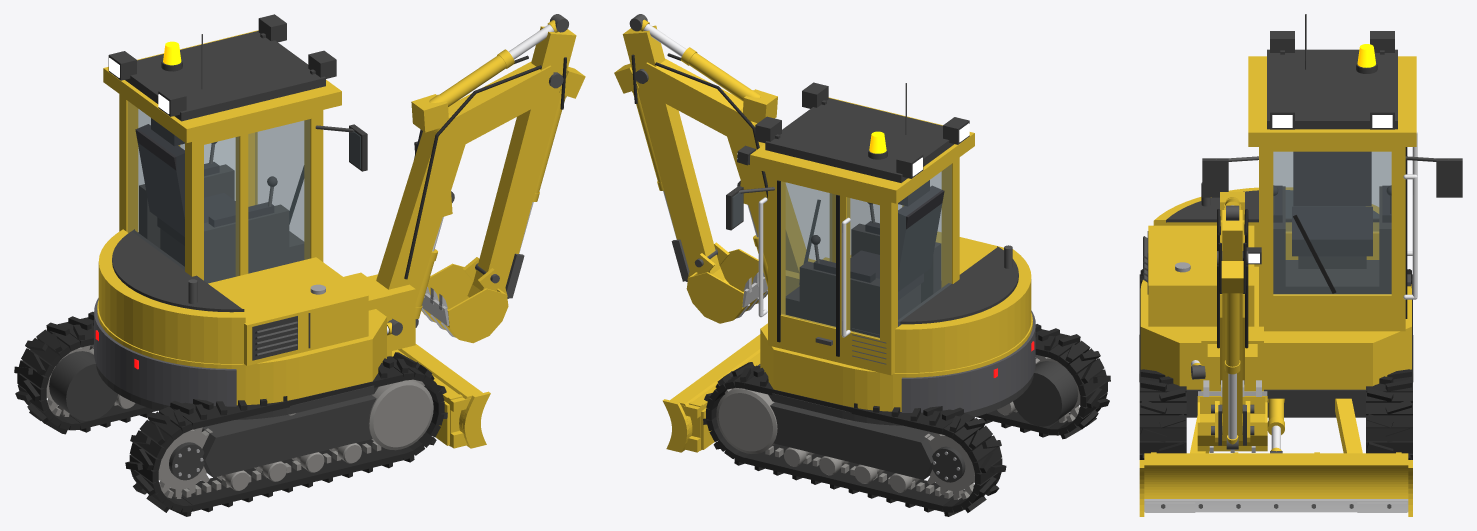
The model's file is mini_excavator.glb.
The picture shows the model from 3 angles, left to right: view 1: azimuth 30°, elevation 25°; view 2: azimuth 150°, elevation 25°; view 3: azimuth 270°, elevation 25°; orthographic projection. The views are drawn at different scales.
Parts seen in each view (by area): view 1: cab, upper_rotate, boom_tilt, track_right, arm_tilt, undercarriage_right, track_left, bucket_tilt, blade_tilt, idler_right_spin, undercarriage_left, sprocket_right_spin (+3 smaller); view 2: cab, upper_rotate, track_left, boom_tilt, arm_tilt, undercarriage_left, track_right, bucket_tilt, blade_tilt, idler_left_spin, undercarriage_right, sprocket_left_spin (+2 smaller); view 3: cab, upper_rotate, blade_tilt, track_right, track_left, arm_tilt, bucket_tilt, boom_tilt, undercarriage, bucket_cylinder_rotate, swing_post_rotate, bucket_cylinder_rod_slide (+1 smaller).
Part boxes in pixels (<box>): cab: <box>103,14,367,283</box>; upper_rotate: <box>94,229,391,419</box>; boom_tilt: <box>376,55,563,302</box>; track_right: <box>125,352,447,516</box>; arm_tilt: <box>472,26,585,290</box>; undercarriage_right: <box>141,395,376,477</box>; track_left: <box>14,311,157,434</box>; bucket_tilt: <box>421,257,508,343</box>; blade_tilt: <box>392,344,490,448</box>; idler_right_spin: <box>368,379,433,450</box>; undercarriage_left: <box>49,344,118,420</box>; sprocket_right_spin: <box>158,427,212,496</box>; cab: <box>726,82,974,375</box>; upper_rotate: <box>760,232,1035,425</box>; track_left: <box>703,362,1006,516</box>; boom_tilt: <box>635,53,809,272</box>; arm_tilt: <box>614,25,720,274</box>; undercarriage_left: <box>770,402,991,479</box>; track_right: <box>976,324,1110,439</box>; bucket_tilt: <box>686,242,767,323</box>; blade_tilt: <box>662,334,760,452</box>; idler_left_spin: <box>716,387,777,453</box>; undercarriage_right: <box>1013,355,1077,426</box>; sprocket_left_spin: <box>924,433,974,497</box>; cab: <box>1202,14,1462,331</box>; upper_rotate: <box>1139,182,1413,398</box>; blade_tilt: <box>1139,398,1412,516</box>; track_right: <box>1139,269,1186,459</box>; track_left: <box>1366,269,1412,459</box>; arm_tilt: <box>1218,210,1246,440</box>; bucket_tilt: <box>1197,380,1267,452</box>; boom_tilt: <box>1217,192,1261,384</box>; undercarriage: <box>1186,398,1365,417</box>; bucket_cylinder_rotate: <box>1224,293,1240,374</box>; swing_post_rotate: <box>1207,344,1257,391</box>; bucket_cylinder_rod_slide: <box>1226,373,1238,449</box>.
Bounding box in the file's own units: 3.57 × 2.85 × 2.07.
Materials: 17 (17 with a texture image).
